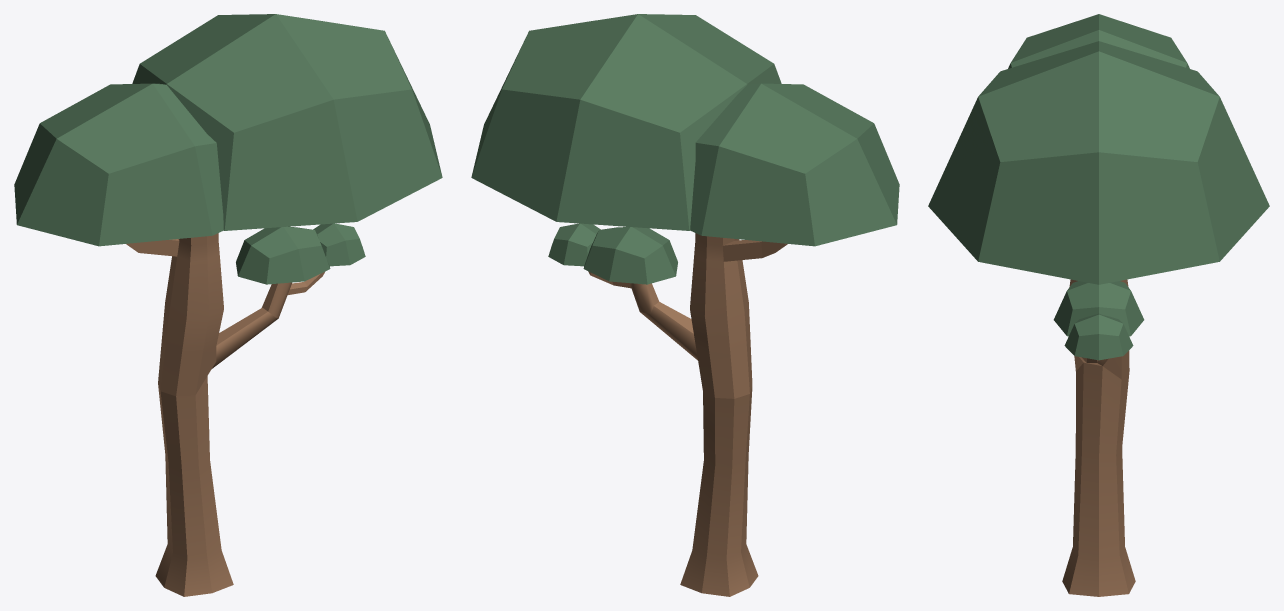
Rendered from Tree_2.fbx.
3 views of the same model, side by side, from view 1: azimuth 30°, elevation 25°; view 2: azimuth 150°, elevation 25°; view 3: azimuth 270°, elevation 25° (orthographic). The views are drawn at different scales.
Parts seen in each view (by area): view 1: KM2_MayaBlockoutScene_Template:POLYSPHERE1; view 2: KM2_MayaBlockoutScene_Template:POLYSPHERE1; view 3: KM2_MayaBlockoutScene_Template:POLYSPHERE1.
Part boxes in pixels (box(x1,y1,x2,y2)): KM2_MayaBlockoutScene_Template:POLYSPHERE1: box(14, 14, 442, 596); KM2_MayaBlockoutScene_Template:POLYSPHERE1: box(471, 14, 899, 596); KM2_MayaBlockoutScene_Template:POLYSPHERE1: box(928, 14, 1269, 596).
Size of the model in its own units: 151 by 191 by 103.
